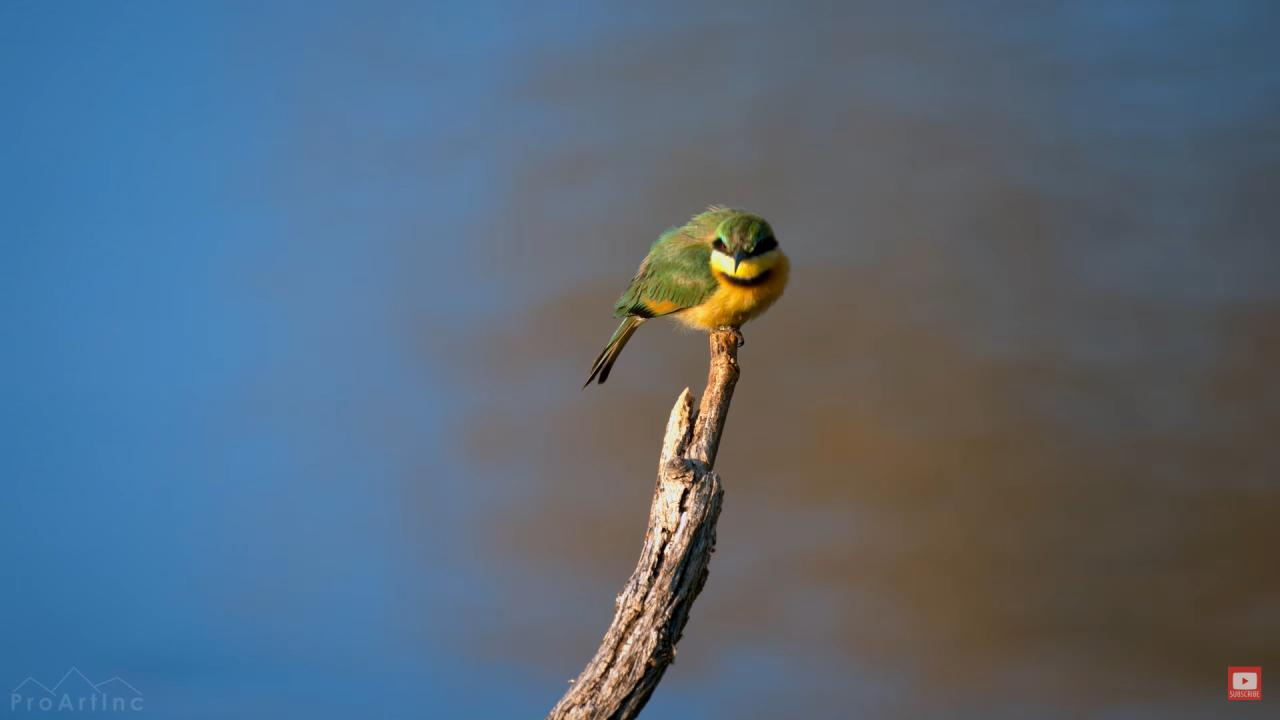Bird: (568, 182, 807, 403)
